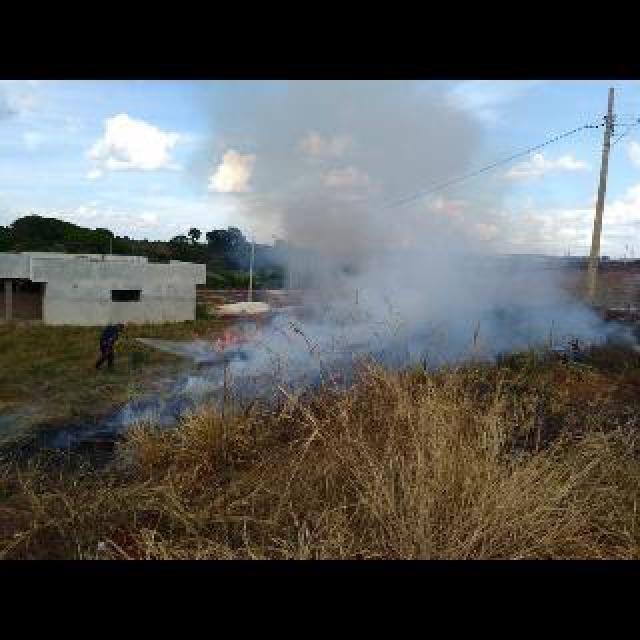Fire: (204, 320, 256, 344)
Smoke: (238, 93, 601, 391), (113, 364, 237, 436)
